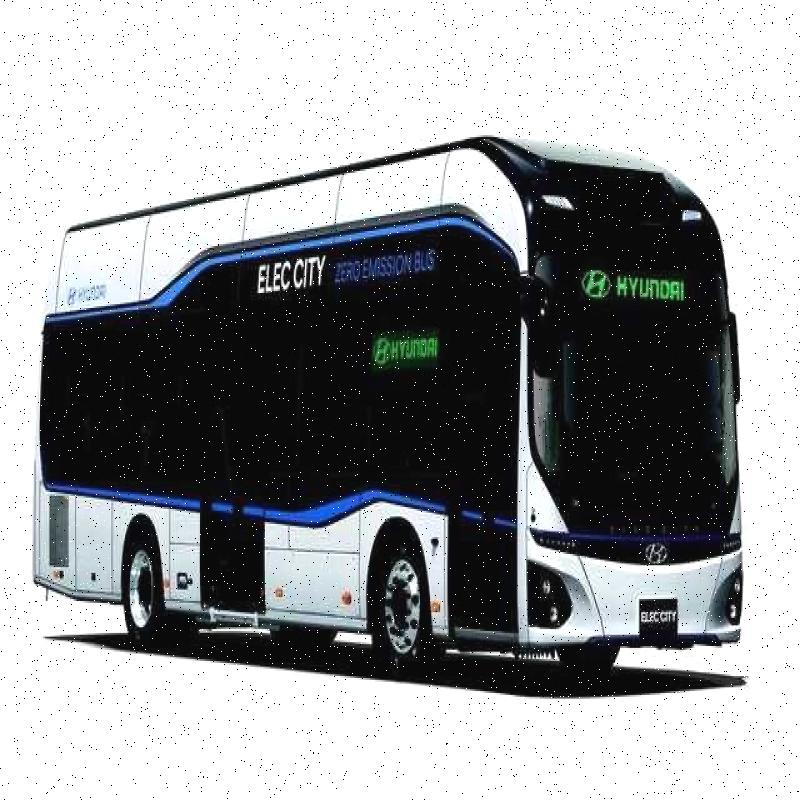bus: (21, 113, 770, 727)
